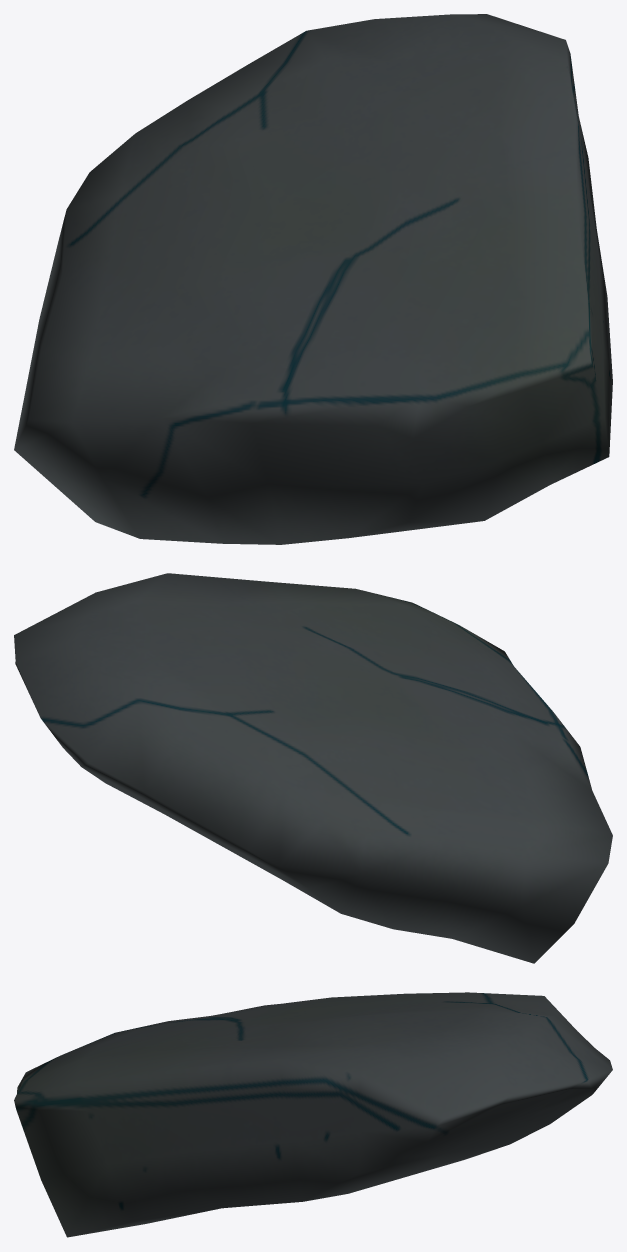
Rendered from stone09.fbx.
3 renders of one model, top to bottom at view 1: azimuth 30°, elevation 25°; view 2: azimuth 150°, elevation 25°; view 3: azimuth 270°, elevation 25°, orthographic. The views are drawn at different scales.
Parts seen in each view (by area): view 1: polySurface17; view 2: polySurface17; view 3: polySurface17.
Part boxes in pixels (bbox=[...]): polySurface17: bbox=[14, 14, 612, 544]; polySurface17: bbox=[14, 573, 612, 963]; polySurface17: bbox=[14, 992, 612, 1237].
Bounding box in the file's own units: 2.02 × 1.06 × 1.94.
Materials: 1 (1 with a texture image).
